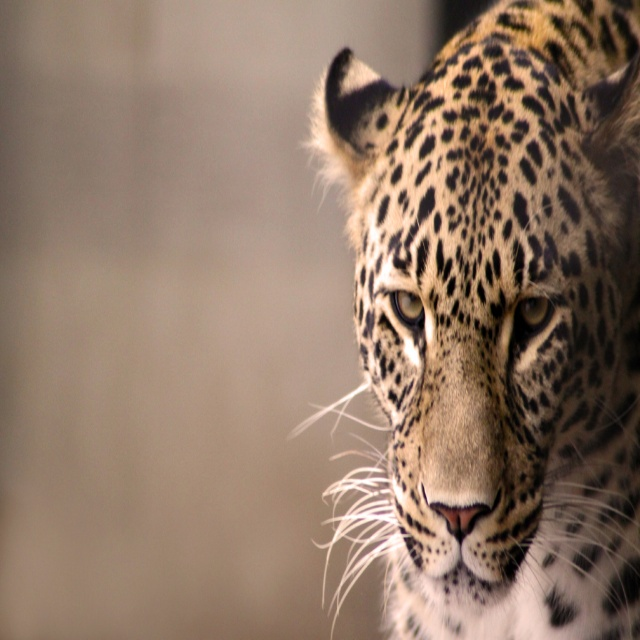Cheetah: (285, 0, 640, 639)
